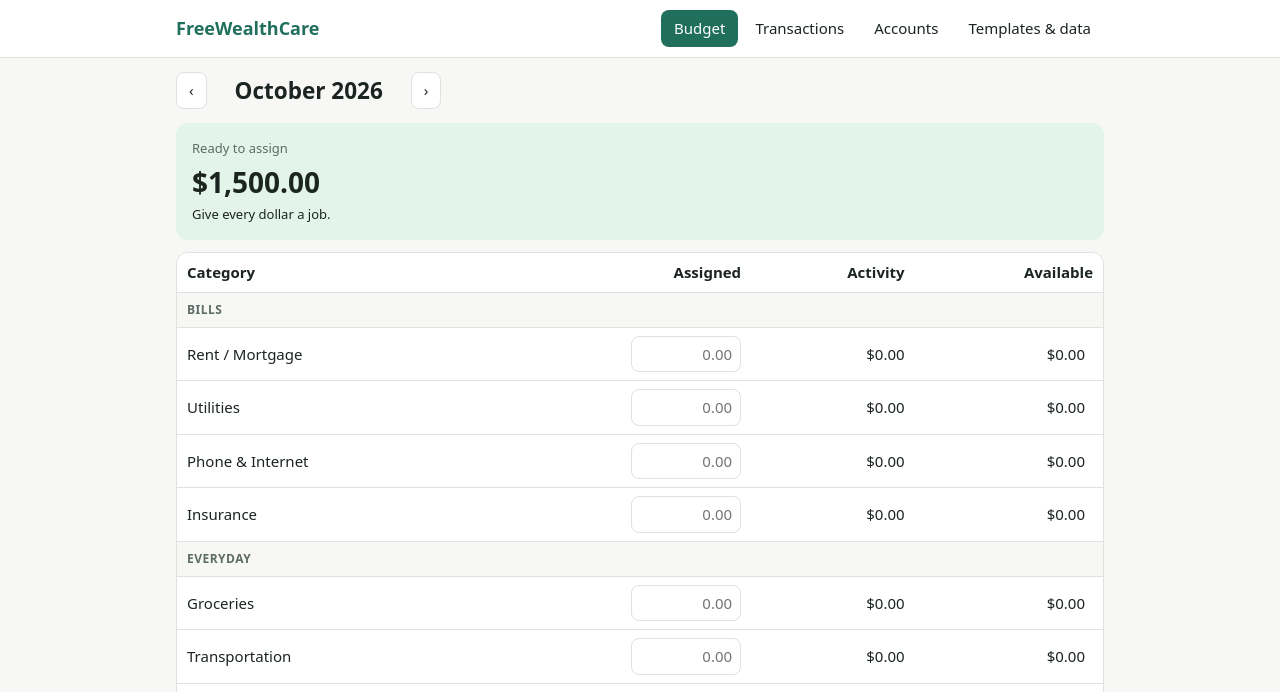
it: App › keeps transaction history visible after the last account is archived
The image size is (1280, 692).
Step 1. Click the button "Accounts" → click(906, 28), box [861, 10, 951, 46]
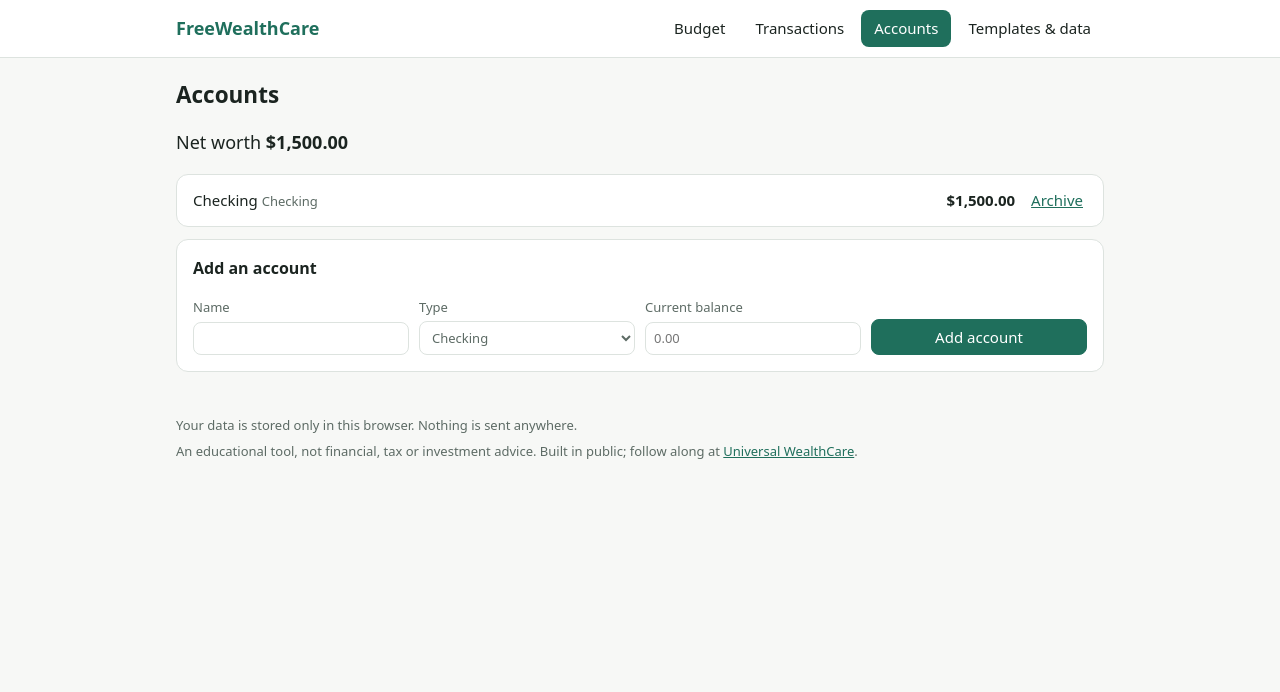
Step 2. Type "Old Bank" into the field labelled "Name" → (301, 339), box [193, 322, 409, 355]
Step 3. Type "75" into the field labelled "Current balance" → (753, 339), box [645, 322, 861, 355]
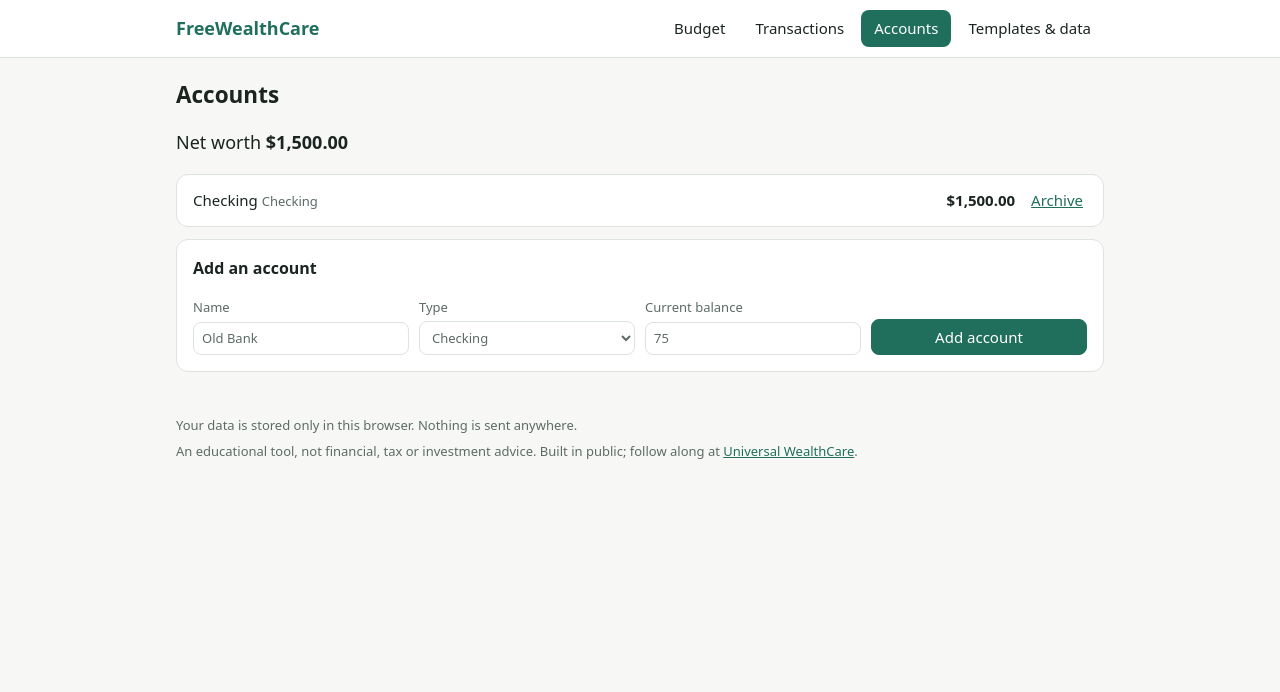
Step 4. Click the button "Add account" → click(979, 337), box [871, 319, 1087, 355]
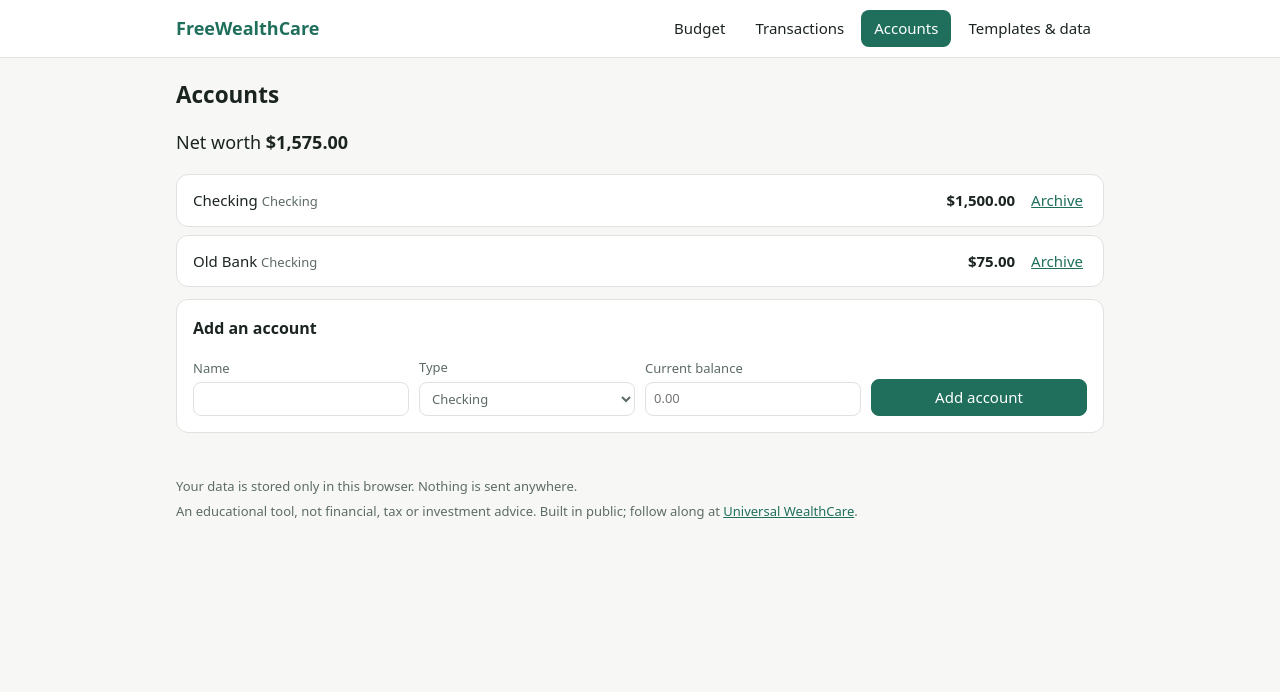
expect the text "Old Bank" is shown: met, box [193, 251, 257, 271]
Step 5. Click the button "Archive" next to "$1,500.00" → click(1057, 201), box [1027, 187, 1087, 214]
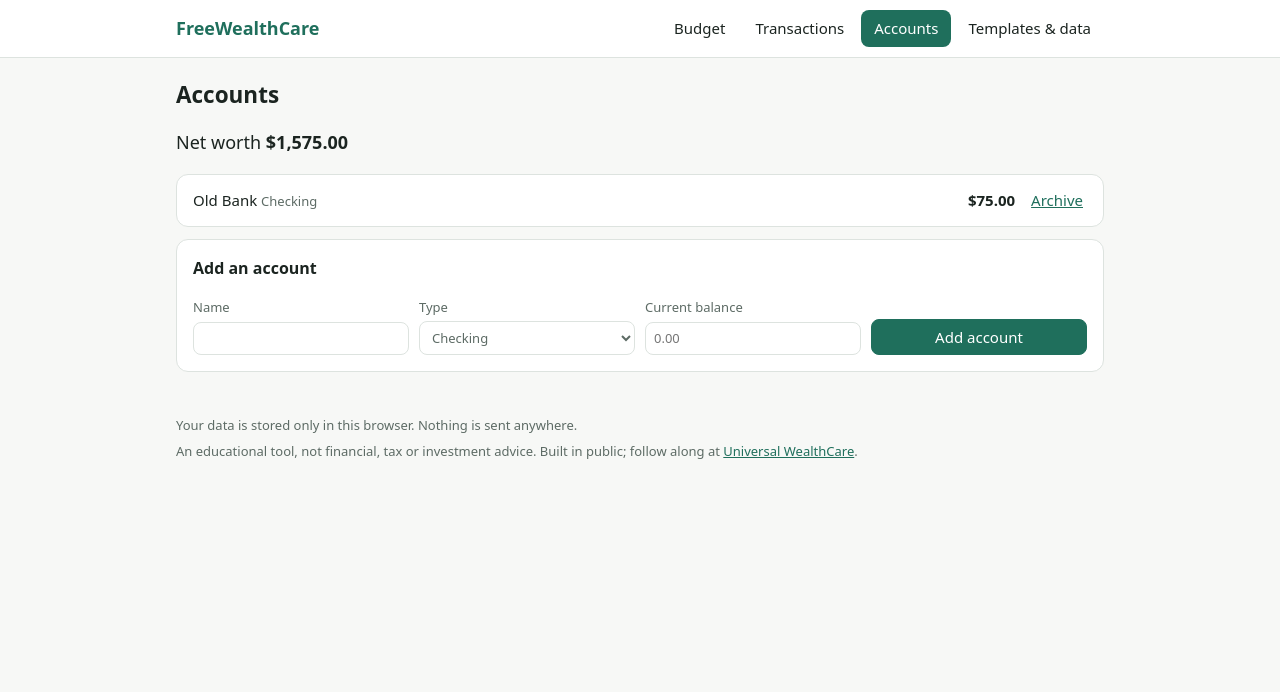
Step 6. Click the button "Archive" → click(1057, 201), box [1027, 187, 1087, 214]
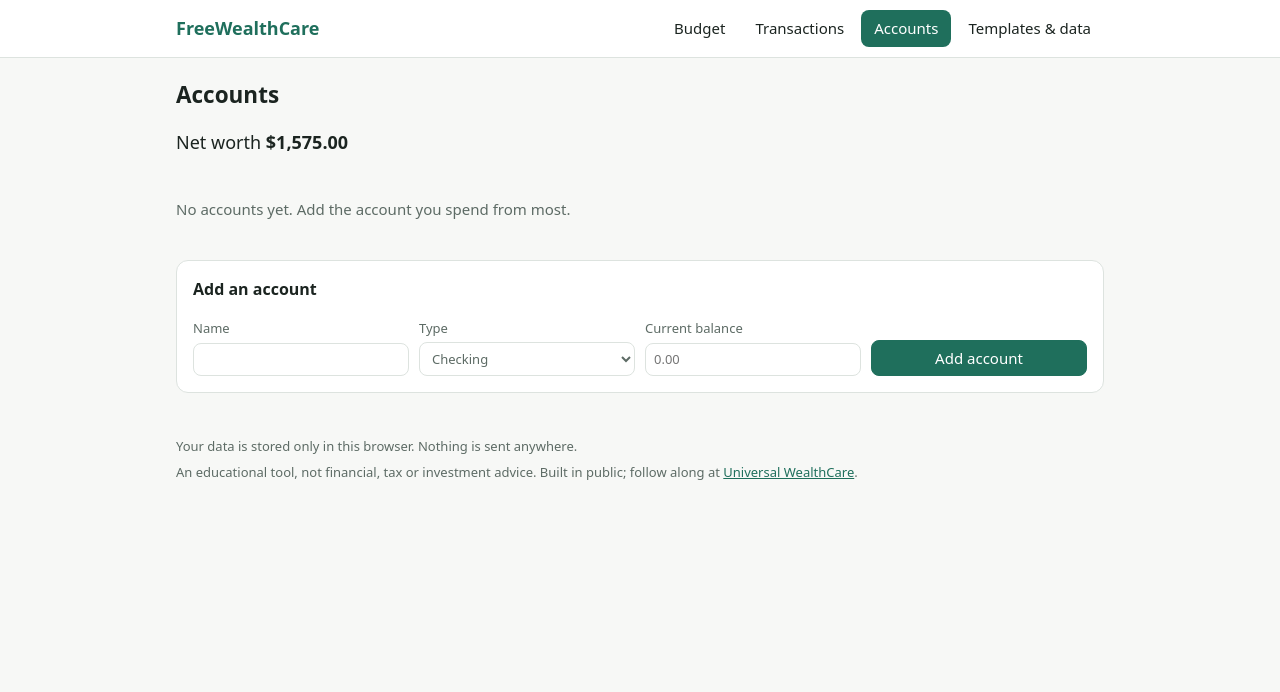
Step 7. Click the button "Transactions" → click(800, 28), box [742, 10, 857, 46]
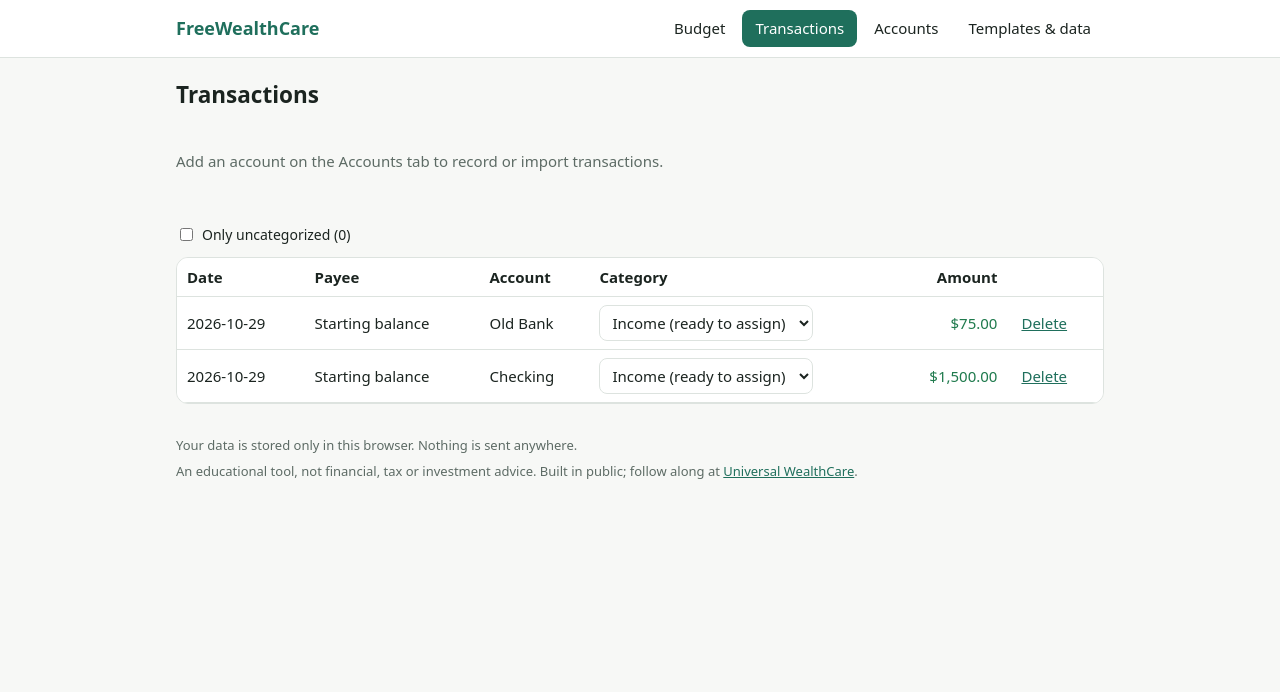
expect the text "Add an account on the Accounts tab" is shown: met, box [176, 151, 663, 171]
expect the text "Starting balance" next to "Old Bank" is shown: met, box [315, 313, 429, 333]
